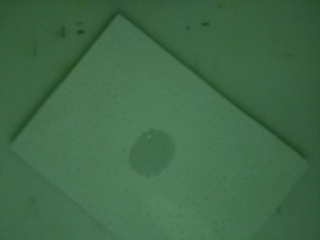Water_detected: (126, 129, 170, 177)
